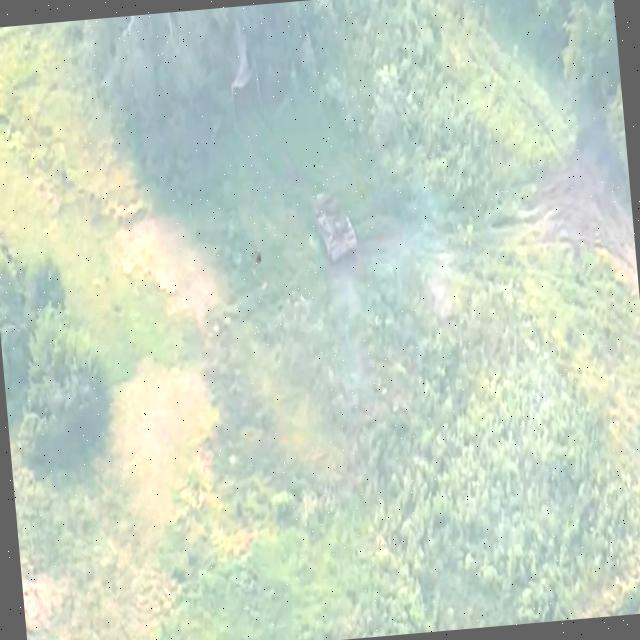MBT: (306, 184, 362, 271)
